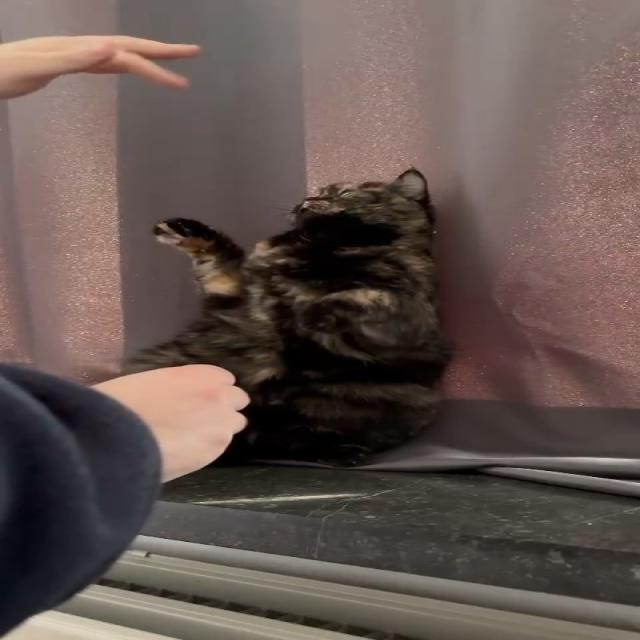authorized: (117, 166, 456, 468)
